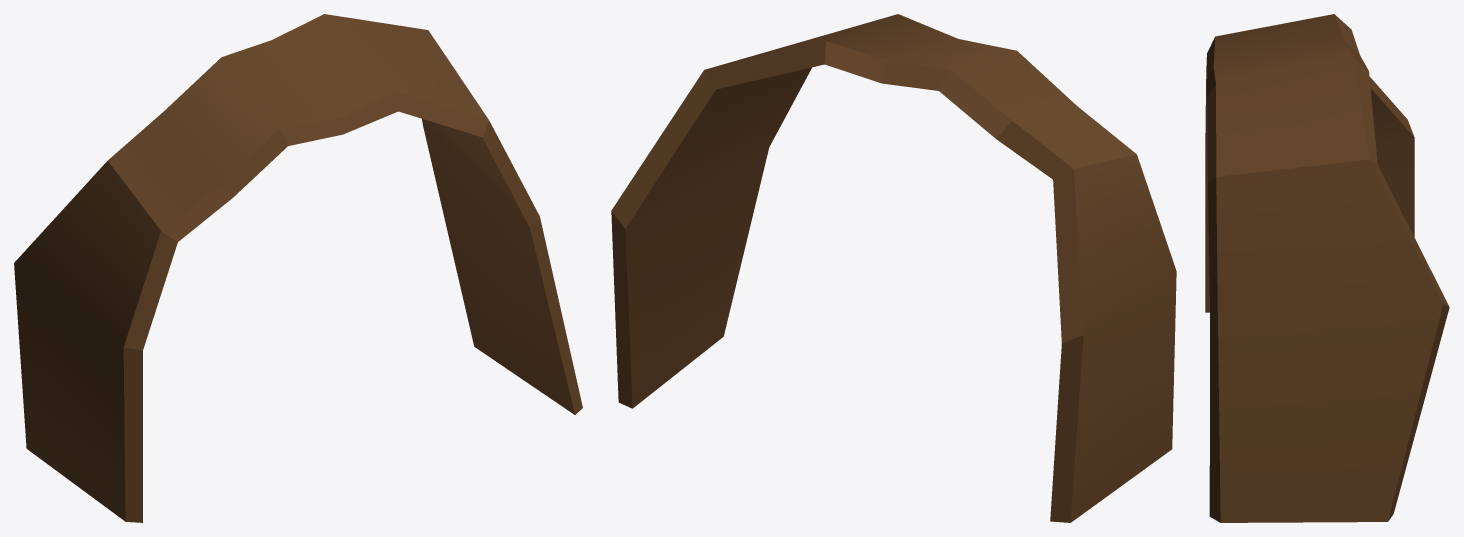
Rendered from Tree_Entrance.fbx.
The picture shows the model from 3 angles, left to right: view 1: azimuth 30°, elevation 25°; view 2: azimuth 150°, elevation 25°; view 3: azimuth 270°, elevation 25°; orthographic projection. The views are drawn at different scales.
Parts seen in each view (by area): view 1: Tree_Entrance3; view 2: Tree_Entrance3; view 3: Tree_Entrance3.
Boxes of the visible parts, left/top/right/bottom form: Tree_Entrance3: left=14, top=14, right=582, bottom=522; Tree_Entrance3: left=611, top=14, right=1176, bottom=522; Tree_Entrance3: left=1205, top=14, right=1449, bottom=522.
Bounding box in the file's own units: 669 × 528 × 312.
